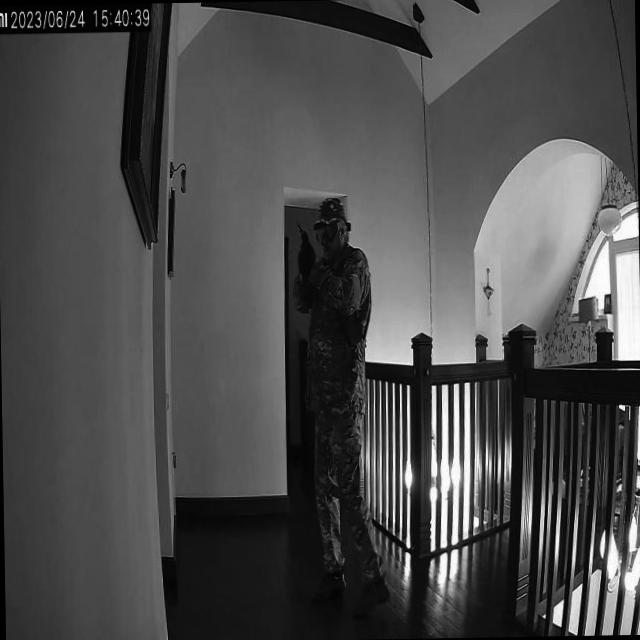gun: (294, 216, 316, 258)
person with a gun: (294, 192, 391, 618)
